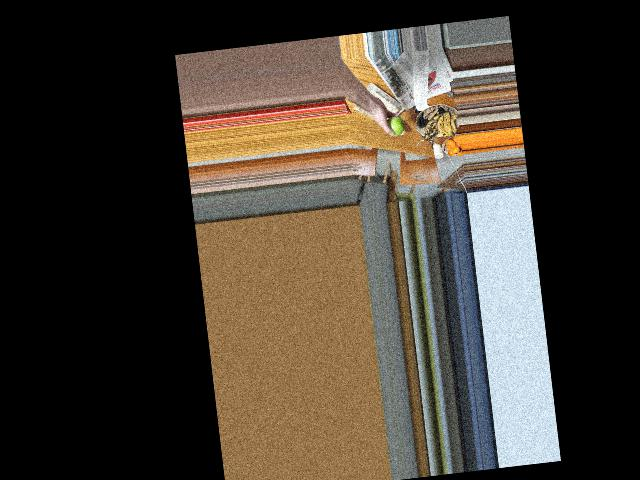apple: (383, 112, 406, 138)
